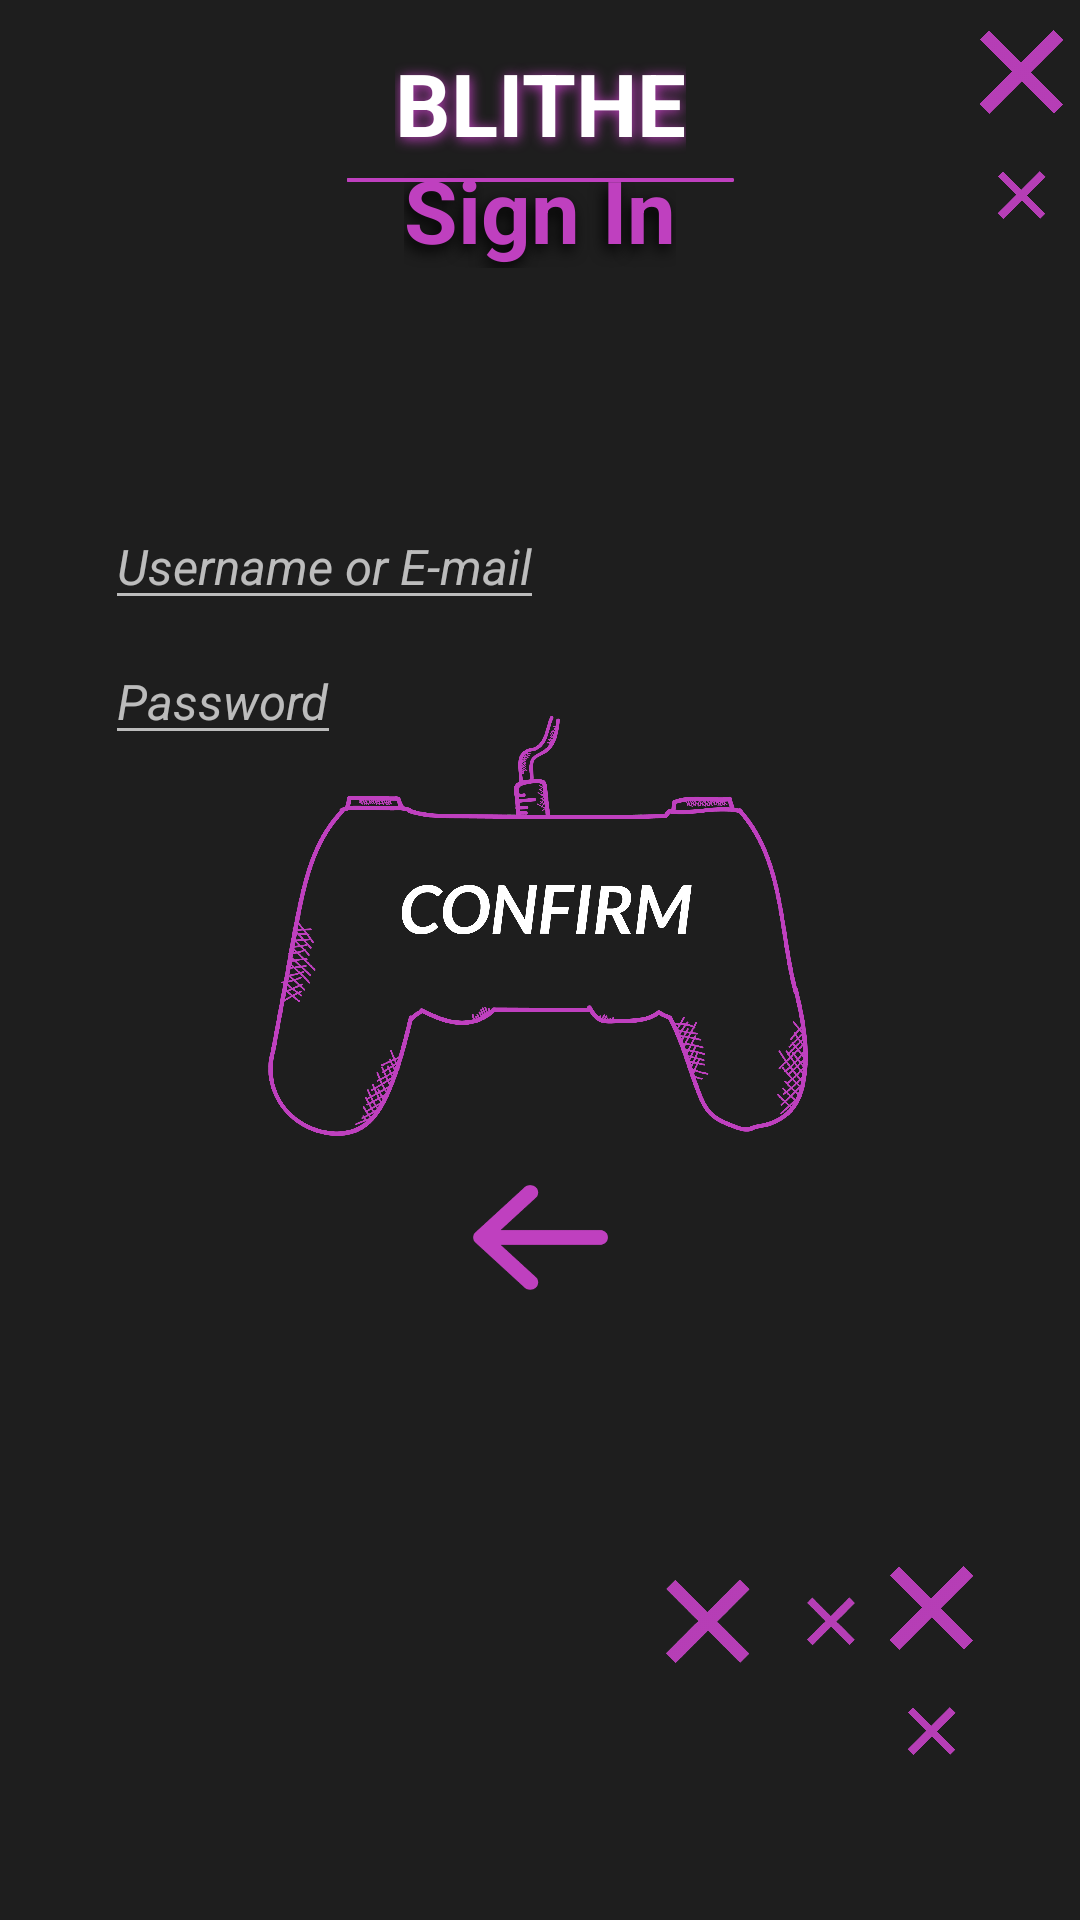

Icons on this 1080 x 1920 Android screen, each with the point to tap as point (x, y):
flecheback: point (540, 1237)
